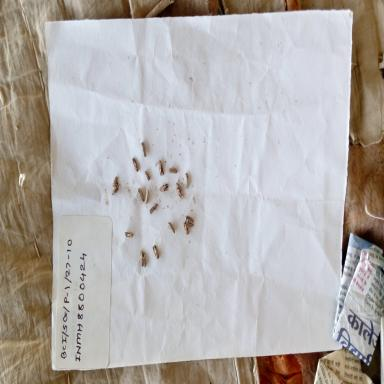pbw: (154, 156, 166, 180), (182, 171, 191, 191), (109, 182, 121, 196), (136, 248, 144, 268), (140, 140, 148, 158), (167, 216, 175, 234), (152, 243, 160, 260), (159, 182, 169, 195), (142, 168, 152, 181), (176, 186, 184, 201), (138, 187, 145, 204), (132, 157, 139, 173), (149, 203, 159, 214), (143, 186, 149, 204), (142, 252, 148, 269), (168, 166, 178, 175), (124, 230, 134, 239), (112, 174, 118, 188), (185, 214, 194, 223), (175, 181, 182, 192), (183, 222, 189, 234), (186, 223, 194, 229)
